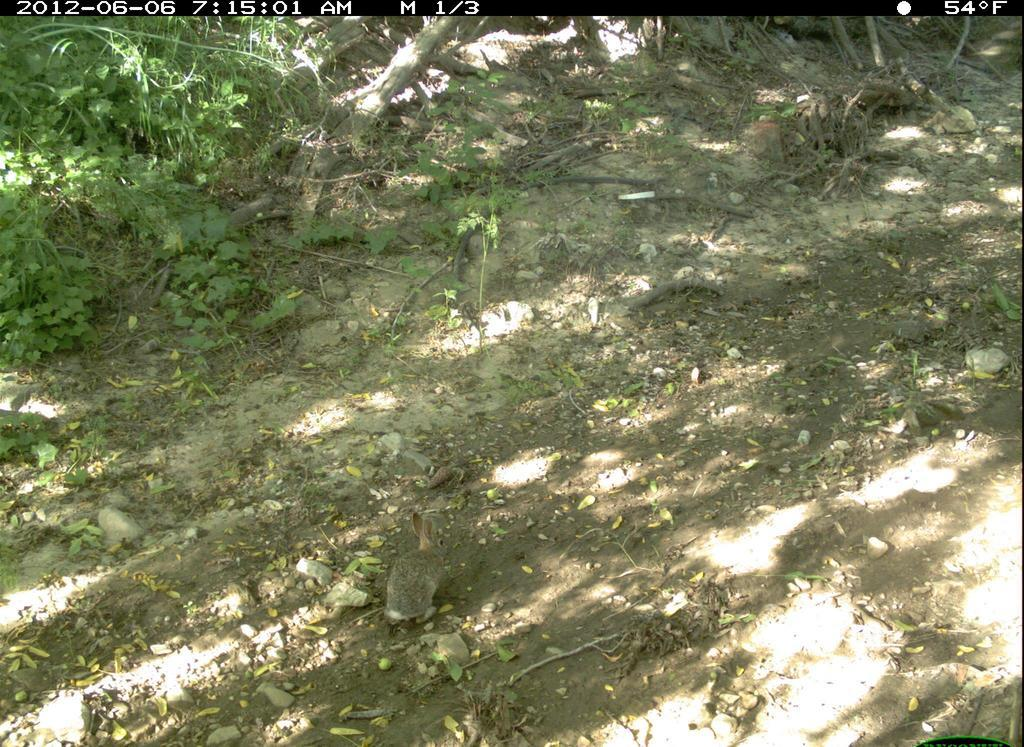rabbit: (383, 507, 460, 634)
